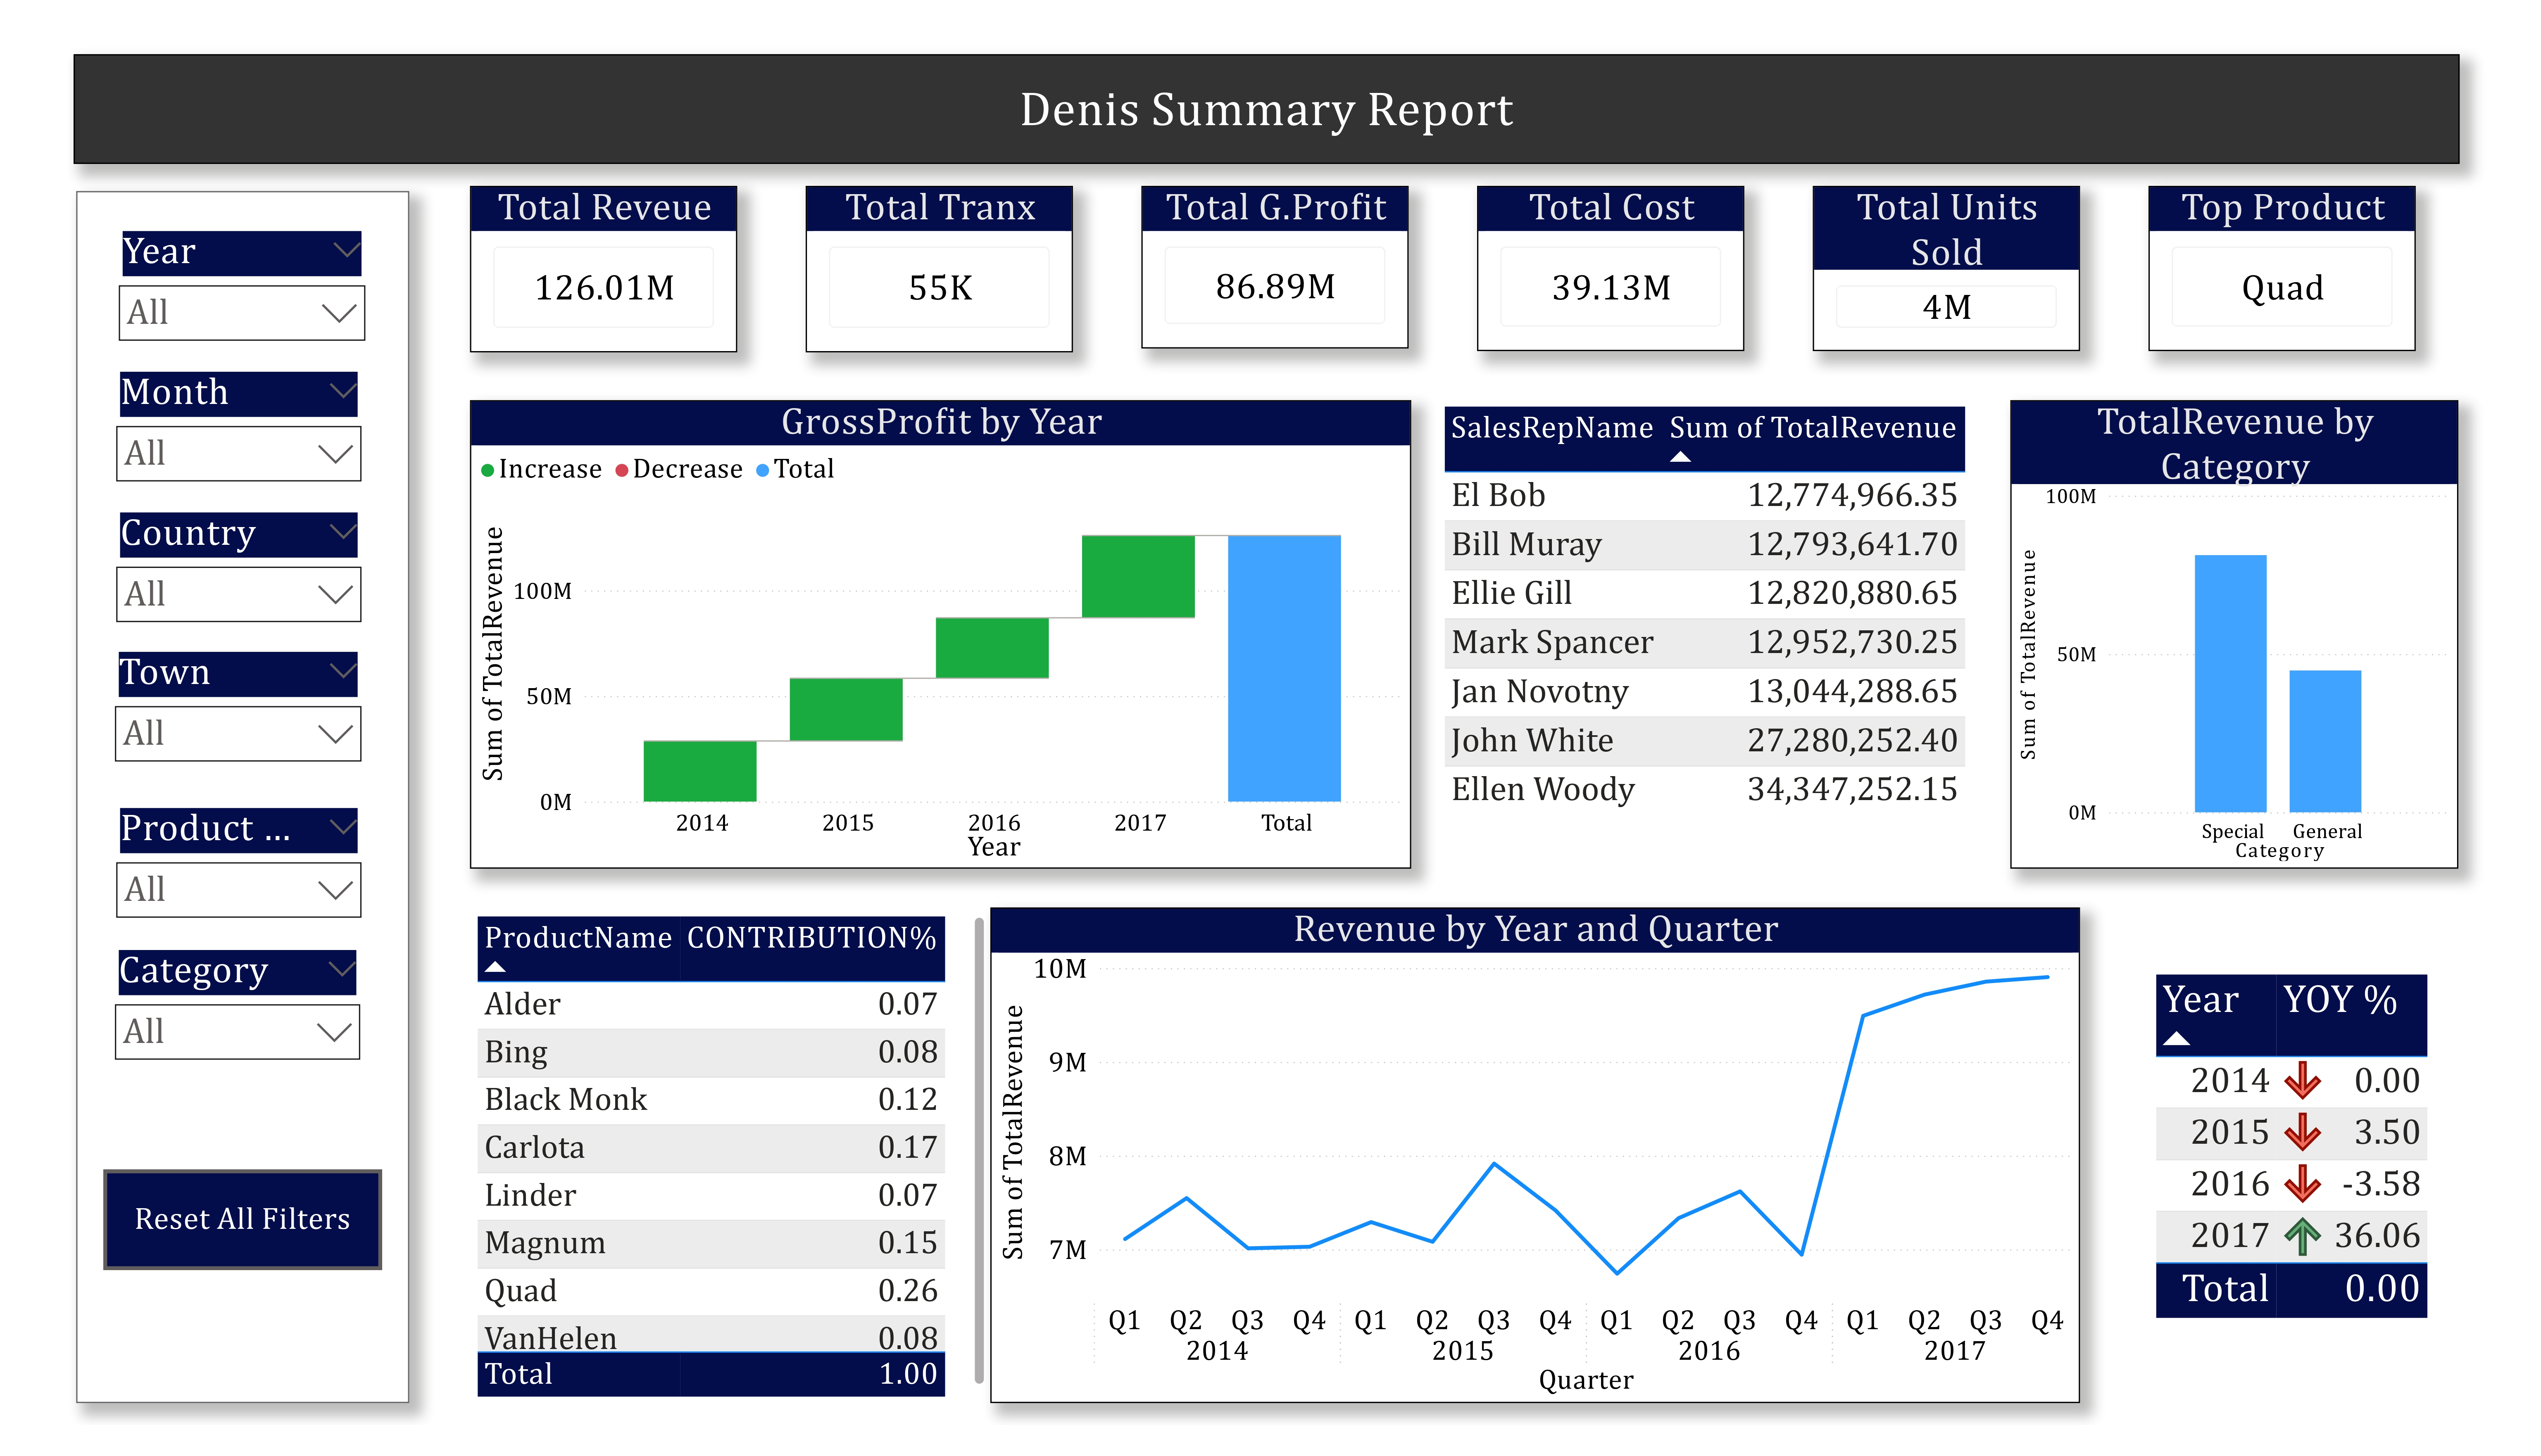

What the dashboard file says about the page in this screenshot:
{"tool":"powerbi","page":{"name":"Page 1","canvas":[1920,1080],"ordinal":0},"visuals":[{"type":"textbox","box":[34.8,124.2,258.4,939.2],"z":0},{"type":"textbox","box":[33.4,18.2,1847.1,85.1],"z":1000},{"type":"actionButton","box":[56.2,882.2,216.2,77.8],"z":2000},{"type":"slicer","title":"Year","fields":{"Values":["Denis.Date.Variation.Date Hierarchy.Year"]},"box":[58,149.6,210.6,105],"z":3000},{"type":"cardVisual","title":"Total Reveue","fields":{"Data":["Sum(Denis.TotalRevenue)"]},"box":[340,120,207,128.9],"z":4000},{"type":"cardVisual","title":"Total Tranx","fields":{"Data":["DateMaster.Total_Transactions"]},"box":[600,120,207,128.9],"z":5000},{"type":"cardVisual","title":"Total G.Profit","fields":{"Data":["Sum(Denis.GrossProfit)"]},"box":[860,120,207,125.5],"z":6000},{"type":"cardVisual","title":"Total Cost","fields":{"Data":["Sum(Denis.TotalCost)"]},"box":[1120,120,207,128],"z":7000},{"type":"cardVisual","title":"Total Units Sold","fields":{"Data":["Sum(Denis.Units)"]},"box":[1380,120,207,128],"z":8000},{"type":"cardVisual","title":"Top Product","fields":{"Data":["Min(Denis.ProductName)"]},"box":[1640,120,207,128],"z":9000},{"type":"lineChart","title":"Revenue by Year and Quarter","fields":{"Category":["DateMaster.Year","DateMaster.Quarter"],"Y":["Sum(Denis.TotalRevenue)"]},"box":[743.1,679.2,844,383.3],"z":10000},{"type":"slicer","title":"Year","fields":{"Values":["DateMaster.MonthName"]},"box":[56.2,259.5,210,105],"z":11000},{"type":"slicer","title":"Year","fields":{"Values":["Denis.Country"]},"box":[56.2,367.6,210,105],"z":12000},{"type":"slicer","title":"Year","fields":{"Values":["Denis.Town"]},"box":[55.1,476.2,210.5,105],"z":13000},{"type":"slicer","title":"Year","fields":{"Values":["Denis.ProductName"]},"box":[56.2,596.8,210,105],"z":14000},{"type":"slicer","title":"Year","fields":{"Values":["Denis.Town"]},"box":[55.1,706.8,210,105],"z":15000},{"type":"tableEx","fields":{"Values":["Denis.ProductName","DateMaster.PER_CONTRIBUTION"]},"box":[340.3,680.5,404.1,382.8],"z":16000},{"type":"waterfallChart","title":"GrossProfit by Year","fields":{"Category":["DateMaster.Year"],"Y":["Sum(Denis.TotalRevenue)"]},"box":[339.6,285.8,729.7,363.2],"z":17000},{"type":"columnChart","title":"TotalRevenue by Category","fields":{"Category":["Denis.Category"],"Y":["Sum(Denis.TotalRevenue)"]},"box":[1533.3,285.8,346.3,363.2],"z":18000},{"type":"tableEx","fields":{"Values":["DateMaster.Year","DateMaster.yoy"]},"box":[1639.9,725.5,238.5,318],"z":19000},{"type":"tableEx","fields":{"Values":["Denis.SalesRepName","Sum(Denis.TotalRevenue)"]},"box":[1089.5,285.8,443.9,363.2],"z":20000}]}

Visuals, with their boxes on the page's 1920x1080 design canvas (x1, y1, x2, y2). These are canvas units, not pixel positions in the 2541x1456 screenshot, which may show the page scaled, cropped or inside an application window:
textbox: x1=35 y1=124 x2=293 y2=1063
textbox: x1=33 y1=18 x2=1880 y2=103
actionButton: x1=56 y1=882 x2=272 y2=960
"Year" slicer: x1=58 y1=150 x2=269 y2=255
"Total Reveue" cardVisual: x1=340 y1=120 x2=547 y2=249
"Total Tranx" cardVisual: x1=600 y1=120 x2=807 y2=249
"Total G.Profit" cardVisual: x1=860 y1=120 x2=1067 y2=246
"Total Cost" cardVisual: x1=1120 y1=120 x2=1327 y2=248
"Total Units Sold" cardVisual: x1=1380 y1=120 x2=1587 y2=248
"Top Product" cardVisual: x1=1640 y1=120 x2=1847 y2=248
"Revenue by Year and Quarter" lineChart: x1=743 y1=679 x2=1587 y2=1062
"Year" slicer: x1=56 y1=260 x2=266 y2=364
"Year" slicer: x1=56 y1=368 x2=266 y2=473
"Year" slicer: x1=55 y1=476 x2=266 y2=581
"Year" slicer: x1=56 y1=597 x2=266 y2=702
"Year" slicer: x1=55 y1=707 x2=265 y2=812
tableEx - Denis.ProductName x DateMaster.PER_CONTRIBUTION: x1=340 y1=680 x2=744 y2=1063
"GrossProfit by Year" waterfallChart: x1=340 y1=286 x2=1069 y2=649
"TotalRevenue by Category" columnChart: x1=1533 y1=286 x2=1880 y2=649
tableEx - DateMaster.Year x DateMaster.yoy: x1=1640 y1=726 x2=1878 y2=1044
tableEx - Denis.SalesRepName x Sum(Denis.TotalRevenue): x1=1090 y1=286 x2=1533 y2=649
